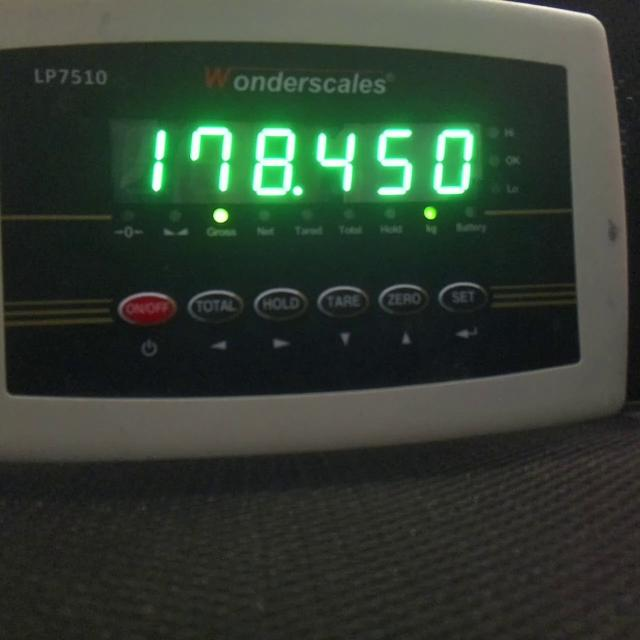.: (292, 185, 302, 196)
0: (433, 128, 473, 194)
1: (150, 129, 167, 192)
4: (315, 130, 356, 194)
5: (374, 127, 414, 195)
7: (189, 124, 233, 192)
8: (252, 124, 296, 199)
